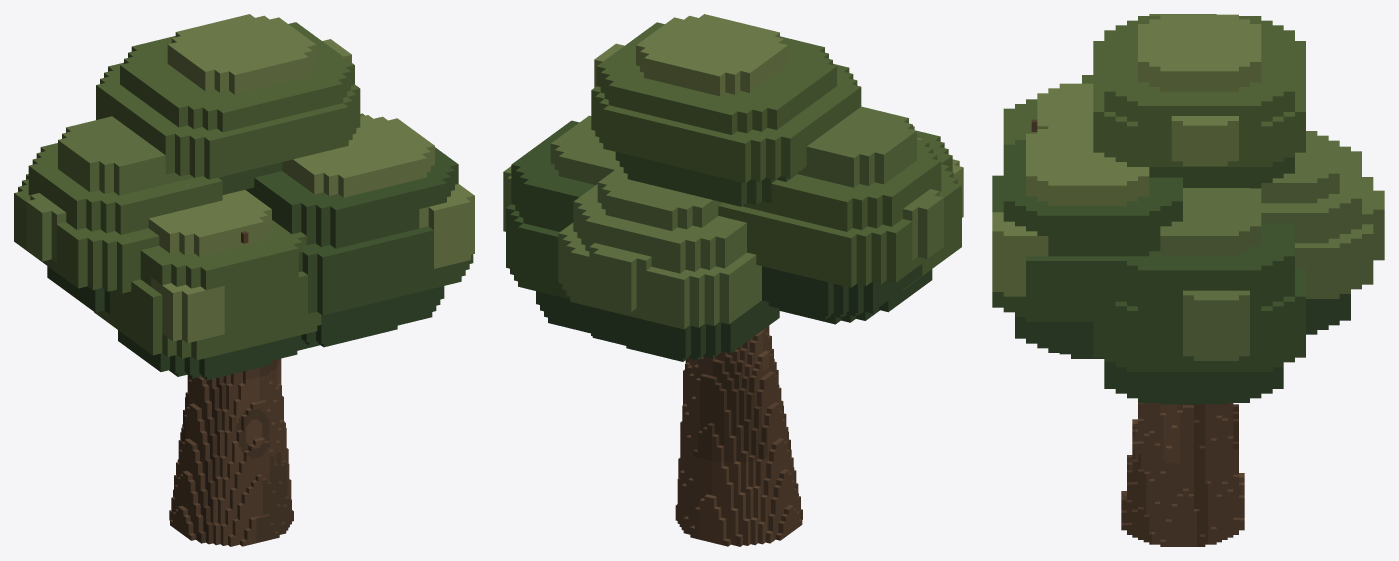
File: apple_mature.glb
3 views of the same model, side by side, from view 1: azimuth 30°, elevation 25°; view 2: azimuth 150°, elevation 25°; view 3: azimuth 270°, elevation 25° (orthographic). The views are drawn at different scales.
Parts seen in each view (by area): view 1: VoxelVisual; view 2: VoxelVisual; view 3: VoxelVisual.
Part boxes in pixels (x1,y1,x2,y2): VoxelVisual: (14,14,474,546); VoxelVisual: (503,14,963,546); VoxelVisual: (992,14,1384,546).
Size of what is drawn, in the model's own units: 10.75 by 12 by 8.75.
